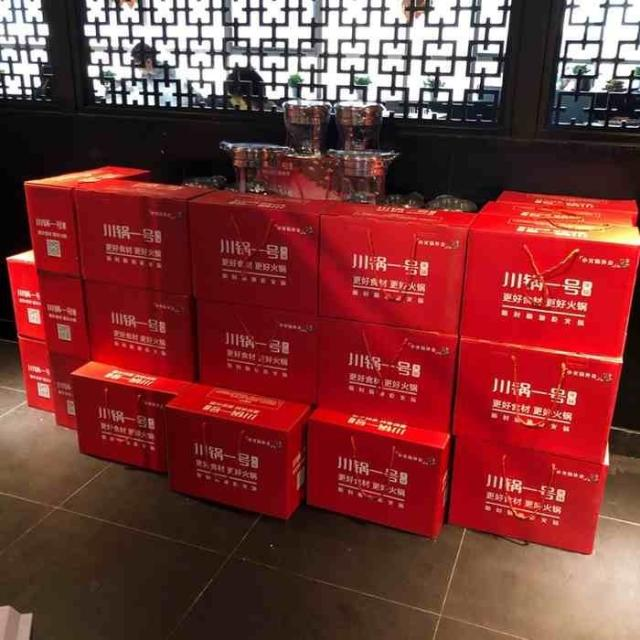box: (460, 215, 639, 361), (452, 337, 623, 464), (320, 202, 478, 334), (164, 382, 312, 518), (190, 189, 346, 316), (446, 435, 609, 555), (306, 406, 450, 538), (69, 179, 217, 298), (316, 316, 457, 434), (24, 167, 148, 278), (71, 361, 193, 473), (196, 301, 320, 405), (82, 281, 196, 383), (36, 271, 90, 359), (6, 248, 46, 343), (480, 202, 637, 226), (497, 191, 638, 216), (48, 353, 90, 430), (19, 336, 54, 414)
